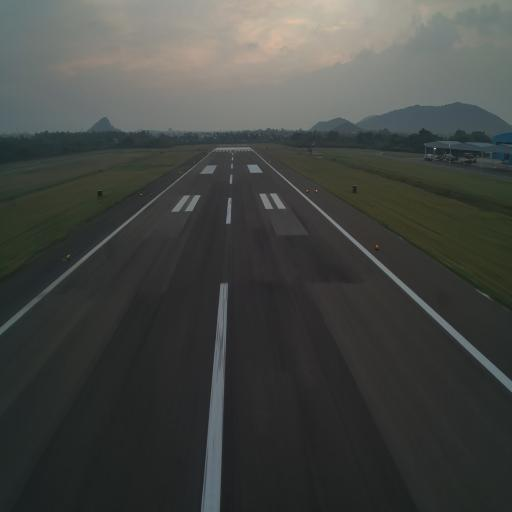on: (66, 251, 70, 262), (375, 242, 378, 250)
